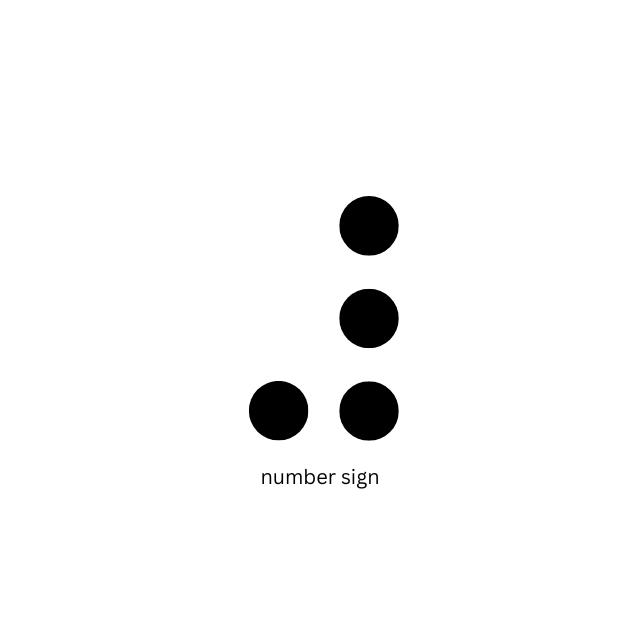number_sign: (246, 193, 402, 442)
